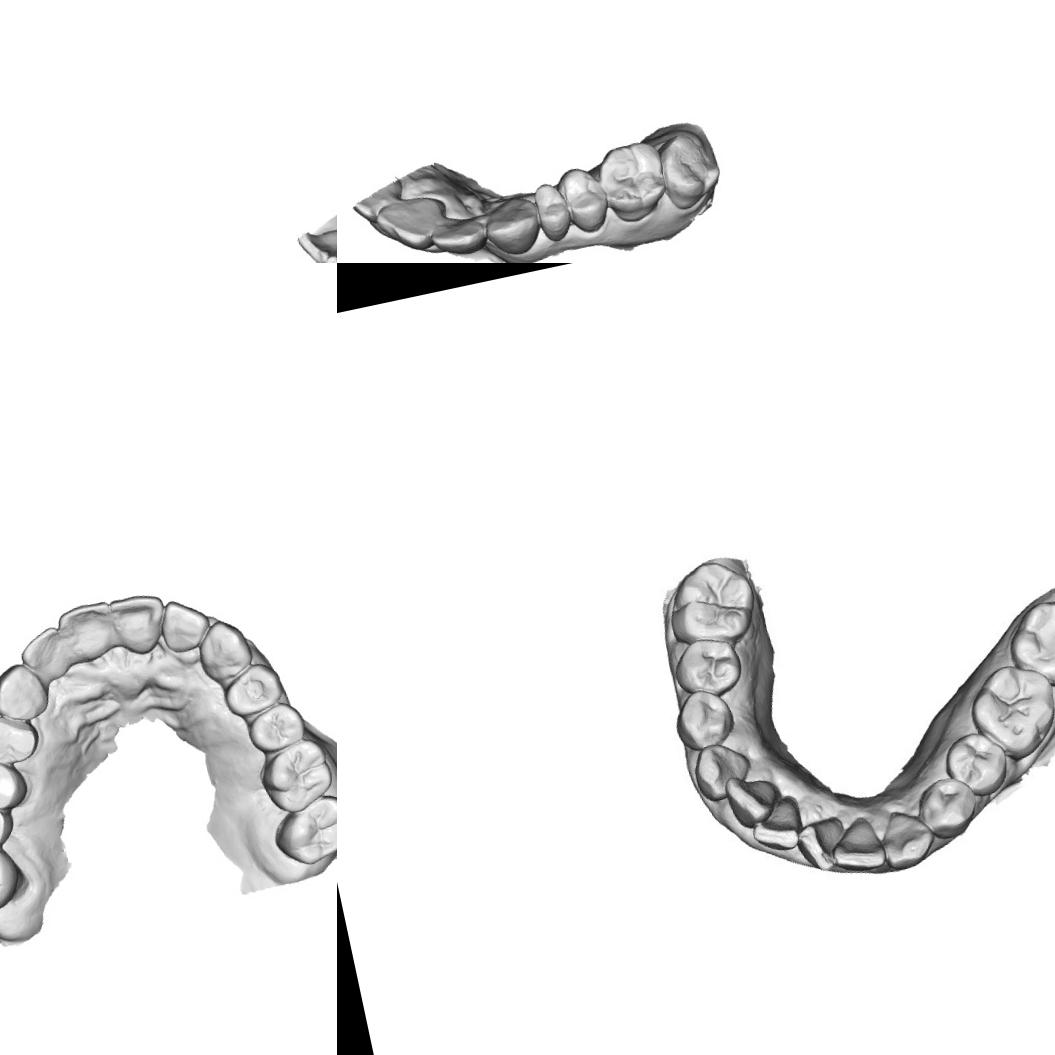canine: (686, 732, 758, 806), (478, 192, 546, 262), (190, 614, 258, 684), (872, 800, 938, 871), (0, 655, 54, 727)
incisor: (370, 190, 454, 260), (53, 596, 121, 667), (109, 587, 174, 660), (14, 622, 78, 690), (154, 592, 217, 658), (830, 814, 892, 877), (750, 793, 808, 858), (794, 812, 850, 877), (722, 767, 784, 824), (426, 211, 490, 263), (296, 217, 337, 263)
molar: (969, 657, 1055, 757), (669, 554, 761, 644), (251, 733, 337, 819), (592, 136, 672, 228), (652, 125, 729, 214), (267, 790, 337, 871), (1000, 590, 1055, 692), (0, 824, 29, 924), (0, 791, 19, 853)
premolar: (912, 771, 987, 844), (554, 161, 615, 239), (216, 657, 290, 721), (674, 632, 740, 698), (950, 728, 1015, 795), (674, 686, 739, 753), (241, 698, 312, 757), (529, 179, 575, 247), (0, 707, 44, 770), (0, 745, 33, 819)
